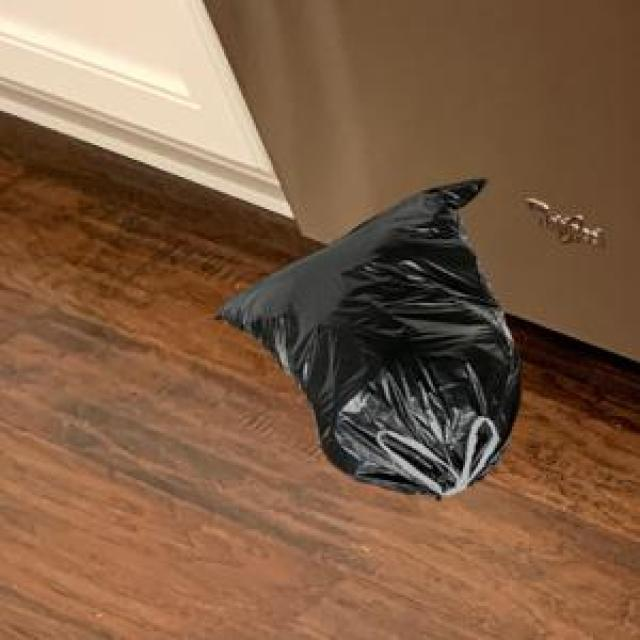waste: (220, 179, 520, 496)
